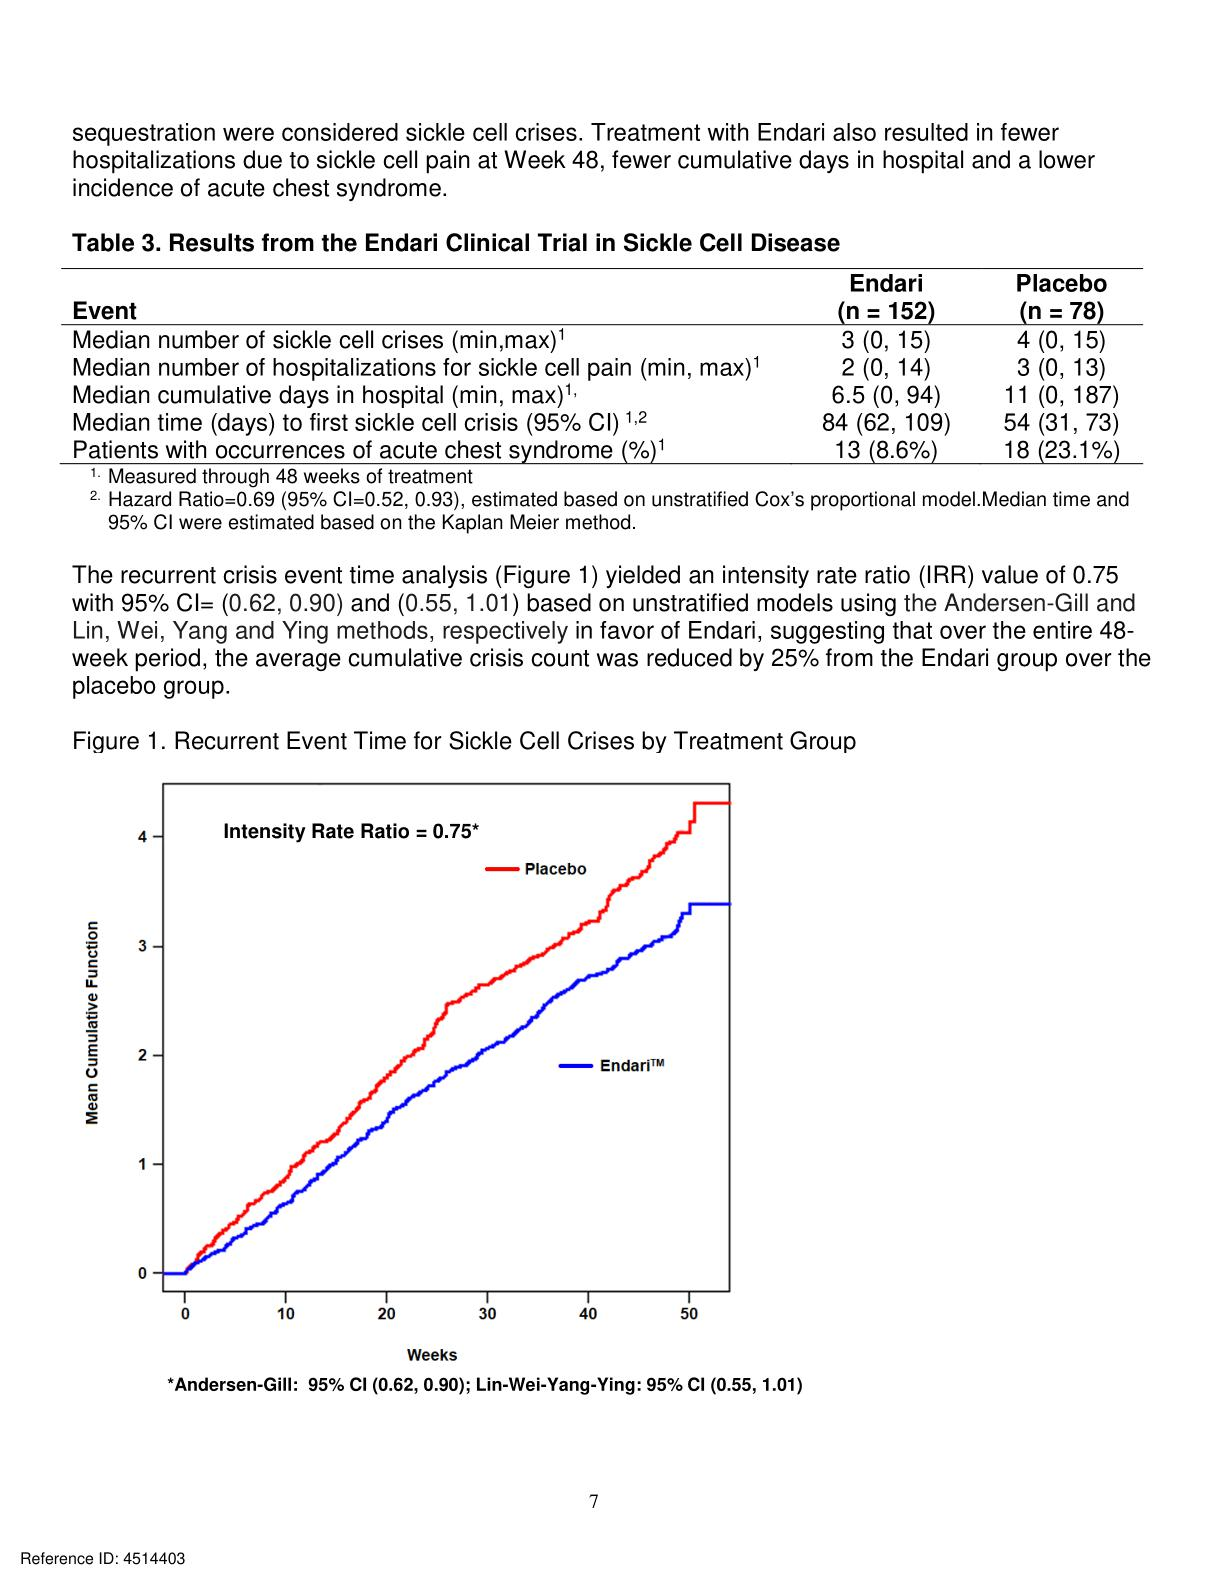partial_lined: (58, 264, 1148, 468)
